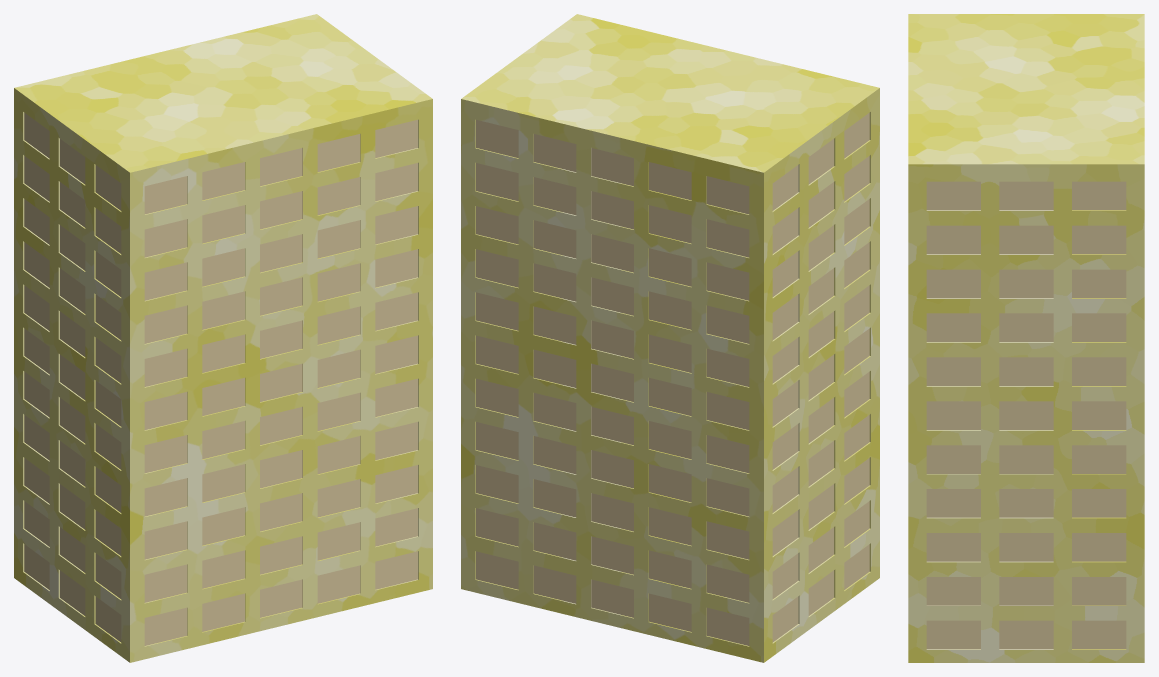
File: Building_01_Yellow.fbx
3 views of the same model, side by side, from view 1: azimuth 30°, elevation 25°; view 2: azimuth 150°, elevation 25°; view 3: azimuth 270°, elevation 25° (orthographic).
Parts seen in each view (by area): view 1: Building01_out, Building01_window; view 2: Building01_out, Building01_window; view 3: Building01_out, Building01_window.
Boxes of the visible parts, box(x1,y1,x2,y2) form: Building01_out: box(14, 14, 432, 662); Building01_window: box(24, 113, 417, 645); Building01_out: box(461, 14, 879, 662); Building01_window: box(476, 113, 869, 645); Building01_out: box(908, 14, 1144, 662); Building01_window: box(926, 181, 1126, 649).
Bounding box in the file's own units: 1422 × 2200 × 944.
